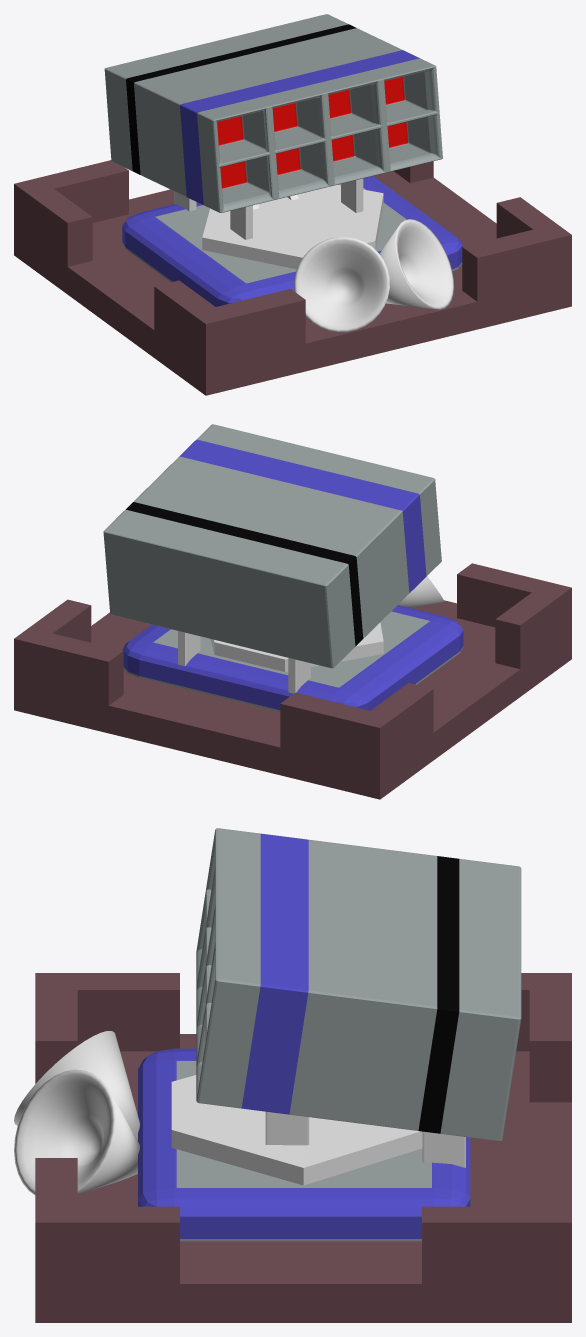
File: ByteSweeperFINAL 1.fbx
3 renders of one model, top to bottom at view 1: azimuth 30°, elevation 25°; view 2: azimuth 150°, elevation 25°; view 3: azimuth 270°, elevation 25°, orthographic. The views are drawn at different scales.
Visible parts, largest first — view 1: Platform.002, Cube.012, Stage.002, Cube.010, Cone.002, Cone.003, Cube.013, Cube.011; view 2: Cube.012, Platform.002, Stage.002, Cube.010, Cone.002, Cube.016, Cube.015; view 3: Cube.012, Platform.002, Stage.002, Cube.010, Cone.003, Cone.002, Cube.013, Cube.015.
Boxes of the visible parts, x1,y1,x2,y2 form: Platform.002: [14, 160, 571, 395]; Cube.012: [104, 14, 442, 212]; Stage.002: [122, 176, 462, 306]; Cube.010: [202, 184, 383, 269]; Cone.002: [294, 236, 389, 332]; Cone.003: [379, 219, 454, 309]; Cube.013: [341, 156, 363, 212]; Cube.011: [230, 205, 252, 239]; Cube.012: [103, 424, 441, 668]; Platform.002: [14, 563, 571, 799]; Stage.002: [122, 605, 463, 711]; Cube.010: [210, 622, 383, 671]; Cone.002: [398, 576, 444, 608]; Cube.016: [288, 658, 310, 693]; Cube.015: [178, 631, 200, 666]; Cube.012: [196, 828, 521, 1141]; Platform.002: [35, 973, 571, 1322]; Stage.002: [138, 1048, 470, 1241]; Cube.010: [171, 1075, 422, 1185]; Cone.003: [14, 1069, 139, 1194]; Cone.002: [14, 1031, 139, 1140]; Cube.013: [265, 1111, 309, 1145]; Cube.015: [422, 1131, 465, 1167].
Bounding box in the file's own units: 184 × 109 × 174.
